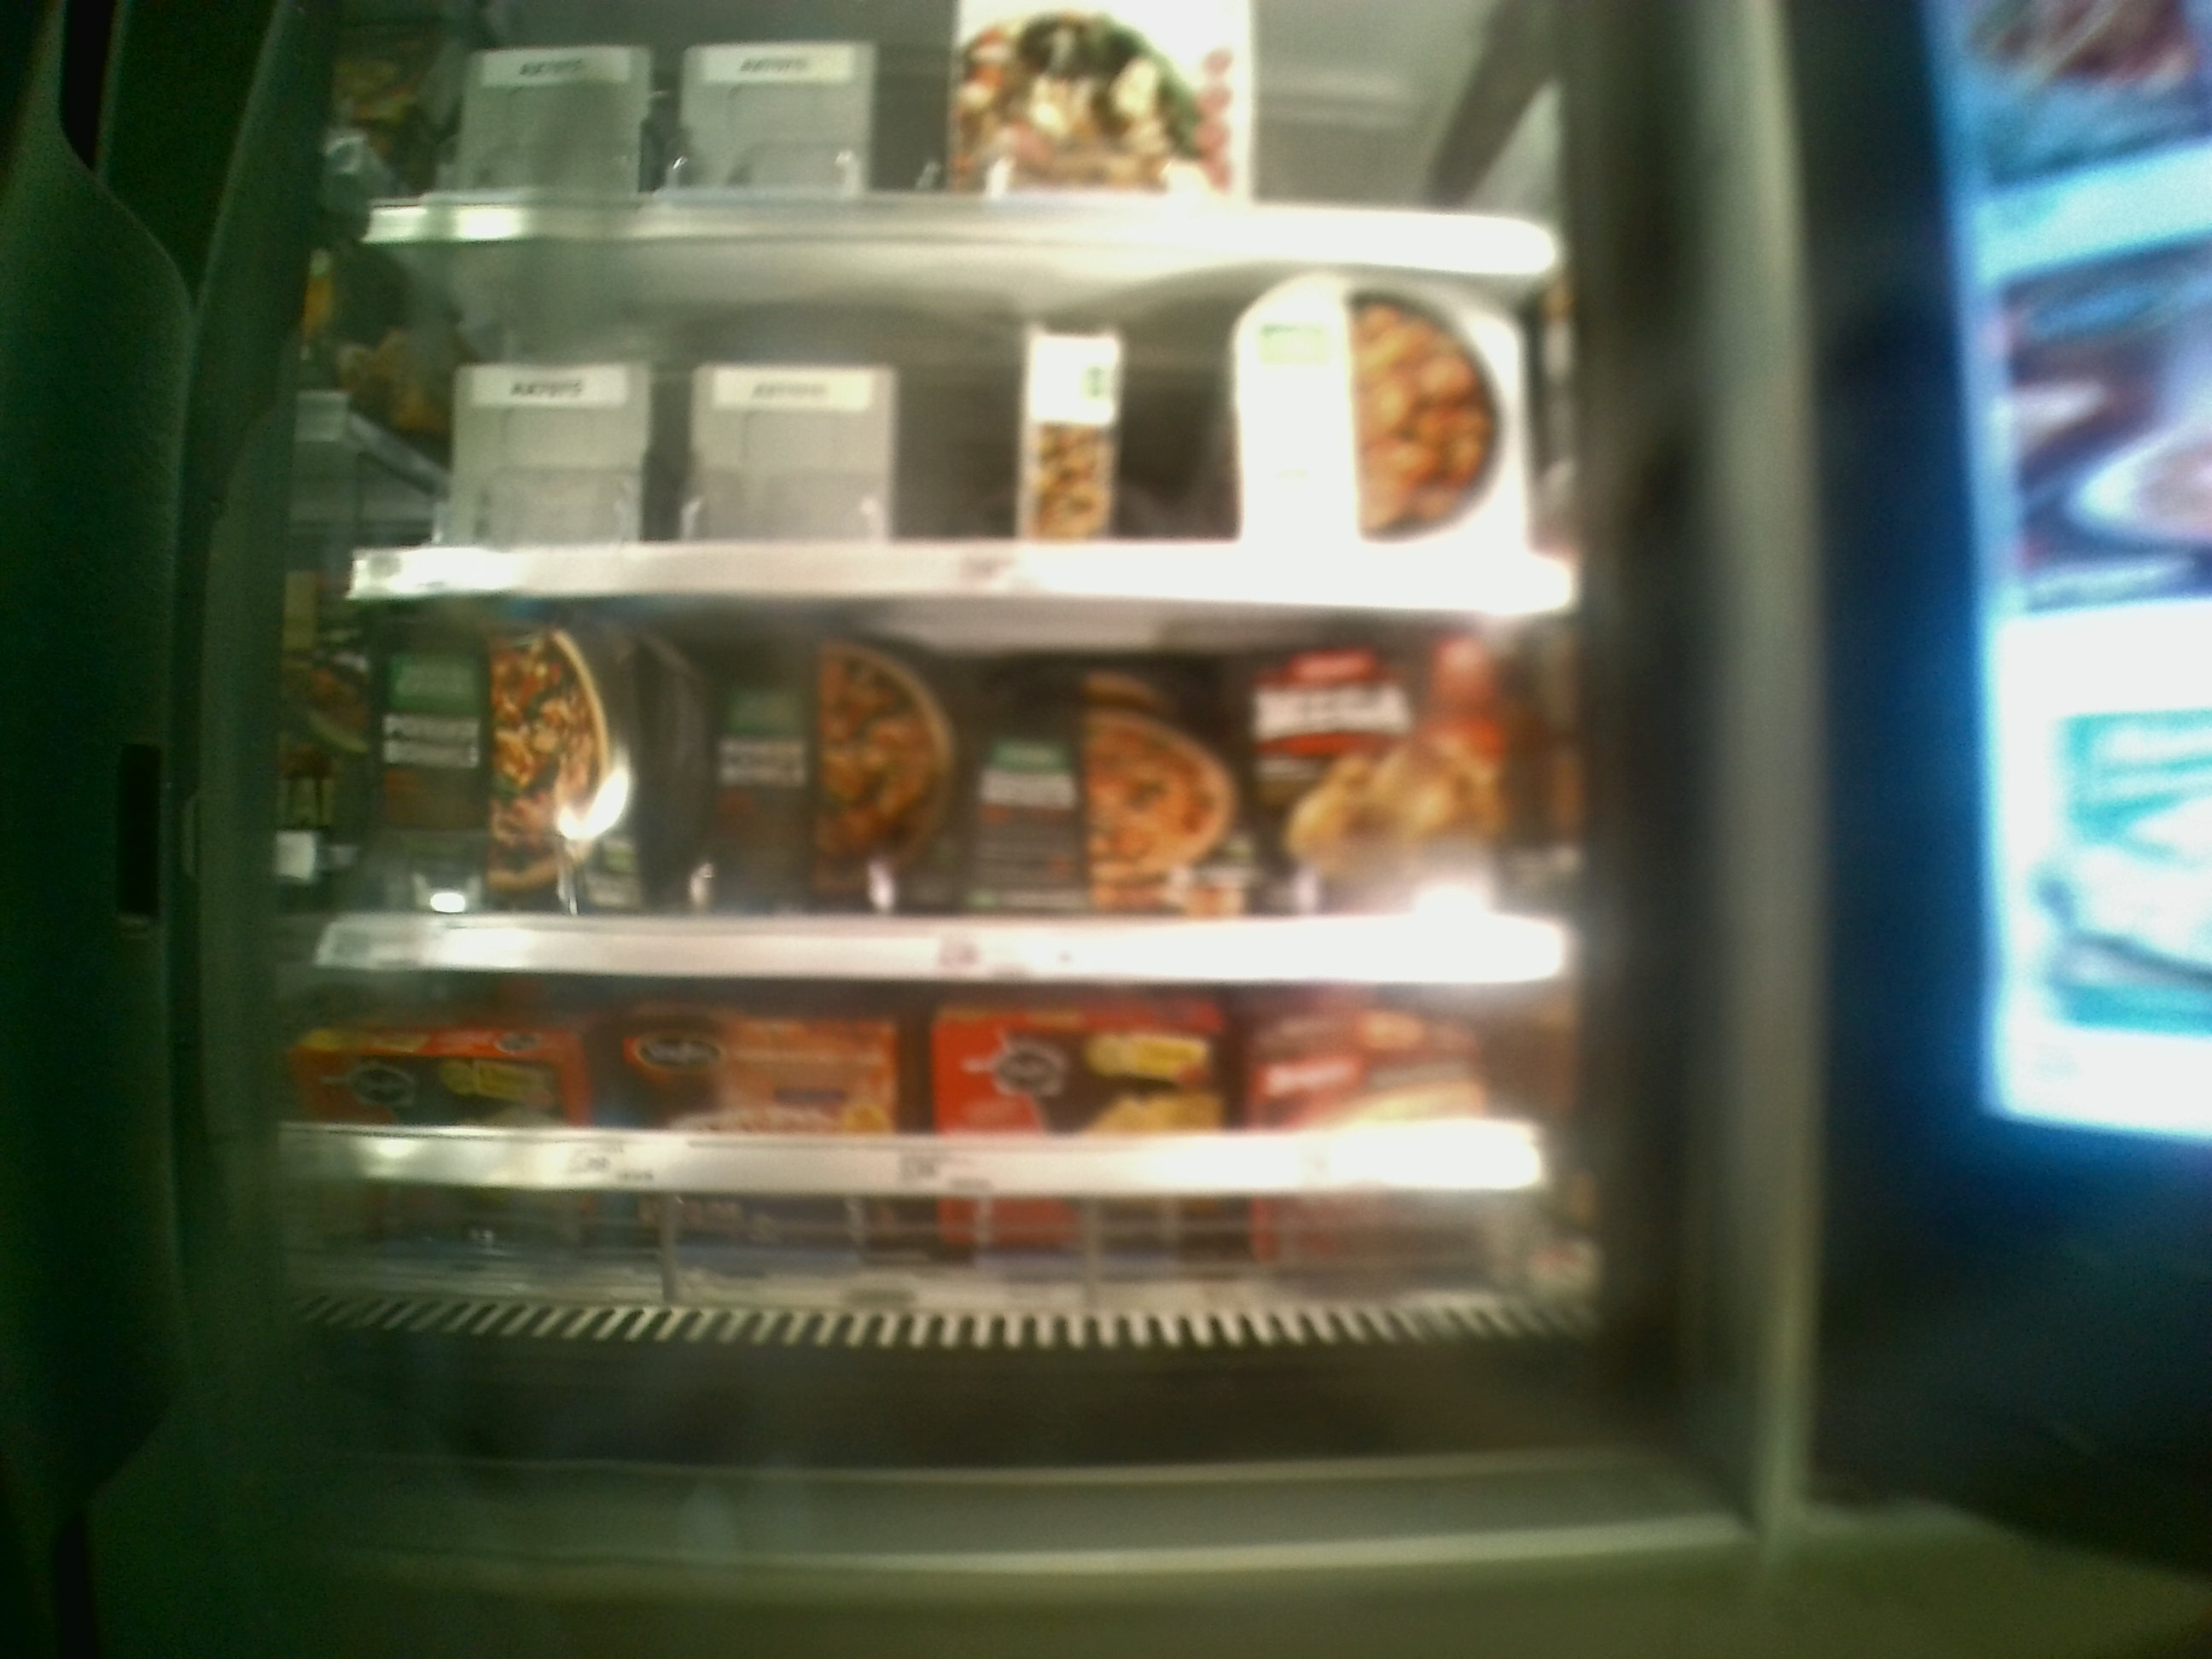shelf: (334, 592, 1595, 978), (341, 234, 1575, 613), (319, 969, 1599, 1333)
